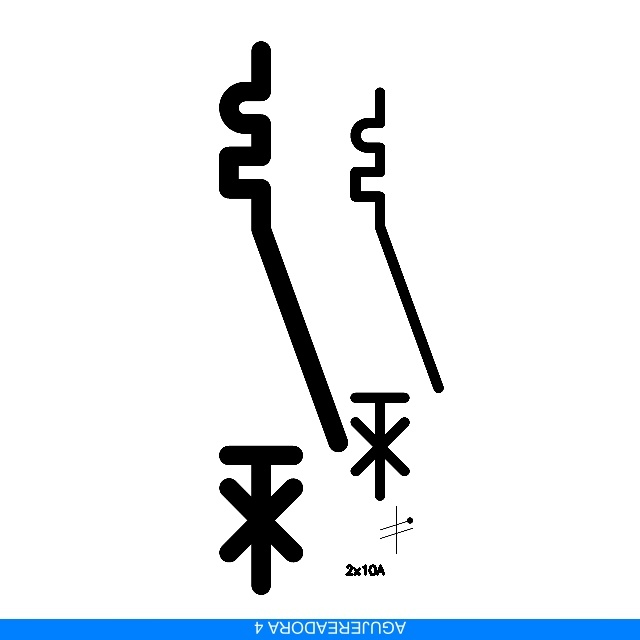interruptor_termomagnetico: (215, 37, 352, 599), (345, 82, 449, 506)
